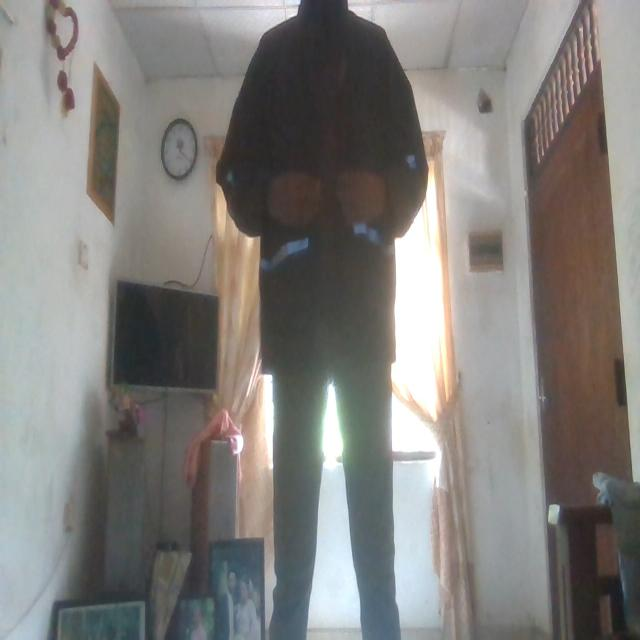Jacket_Wearer: (230, 13, 426, 374)
Person: (224, 0, 428, 640)
